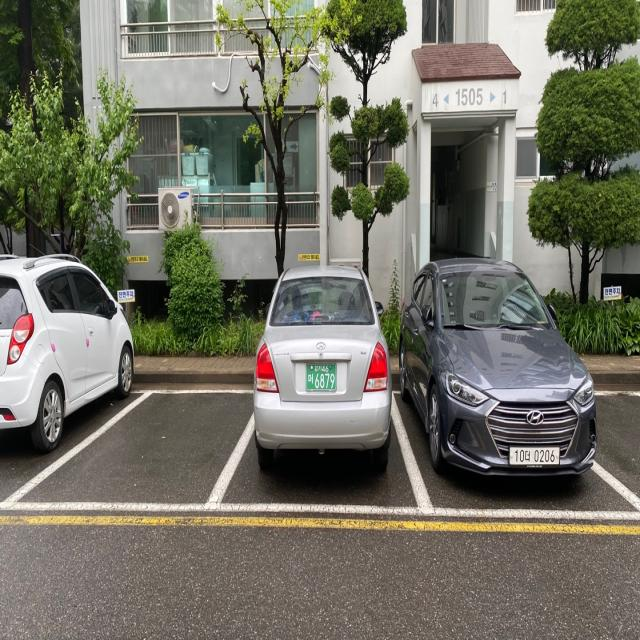empty: (0, 388, 254, 513)
occupied: (408, 262, 600, 479), (252, 261, 396, 468), (0, 240, 135, 448)
